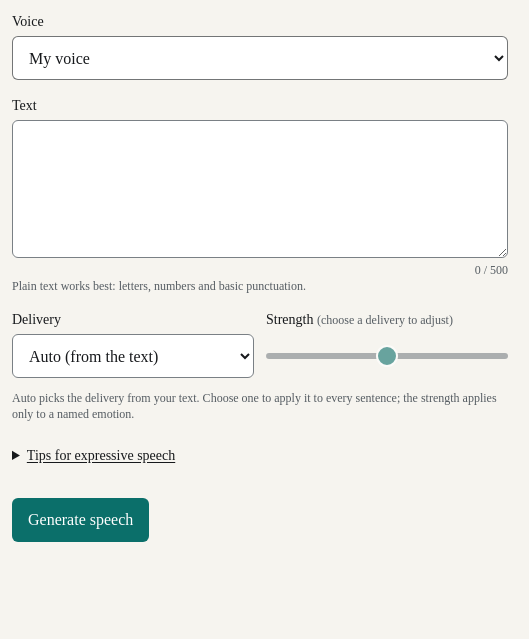
Test: TextToSpeechForm › shows an honest, quiet progress state: a bar and a ticking clock hidden from screen readers
Select "My voice" in the dropdown labelled "Voice": (260, 58) [12,36,508,80]
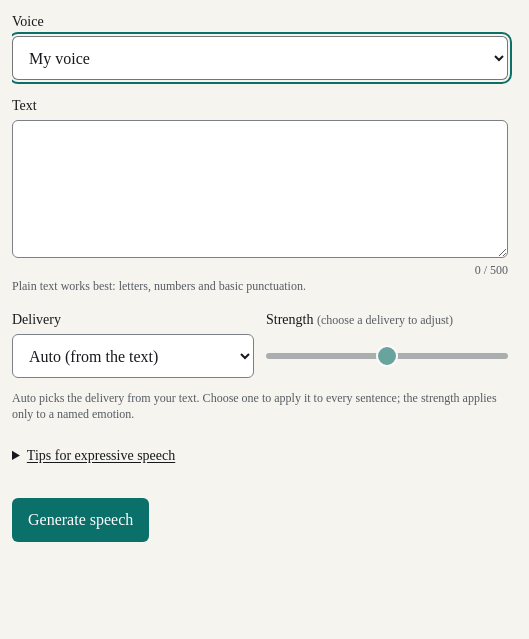
In the text box labelled "Text": (260, 189) [12,120,508,258], type "Hello there."
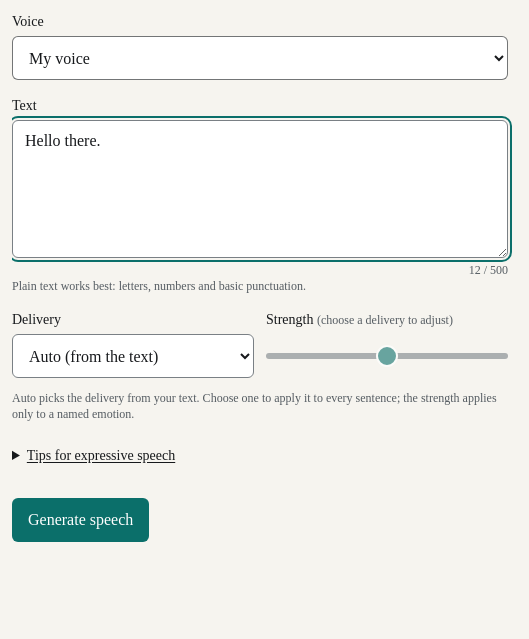
Click the button "Generate speech": (81, 520) [12,498,149,542]
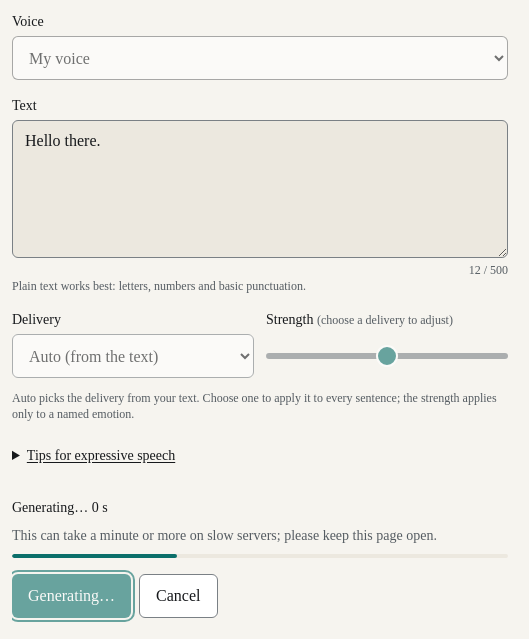
Check: the element with class "animate-indeterminate" is shown, box [12,554,177,558]
Check: the button "Cancel" is shown, box [139,574,218,618]
